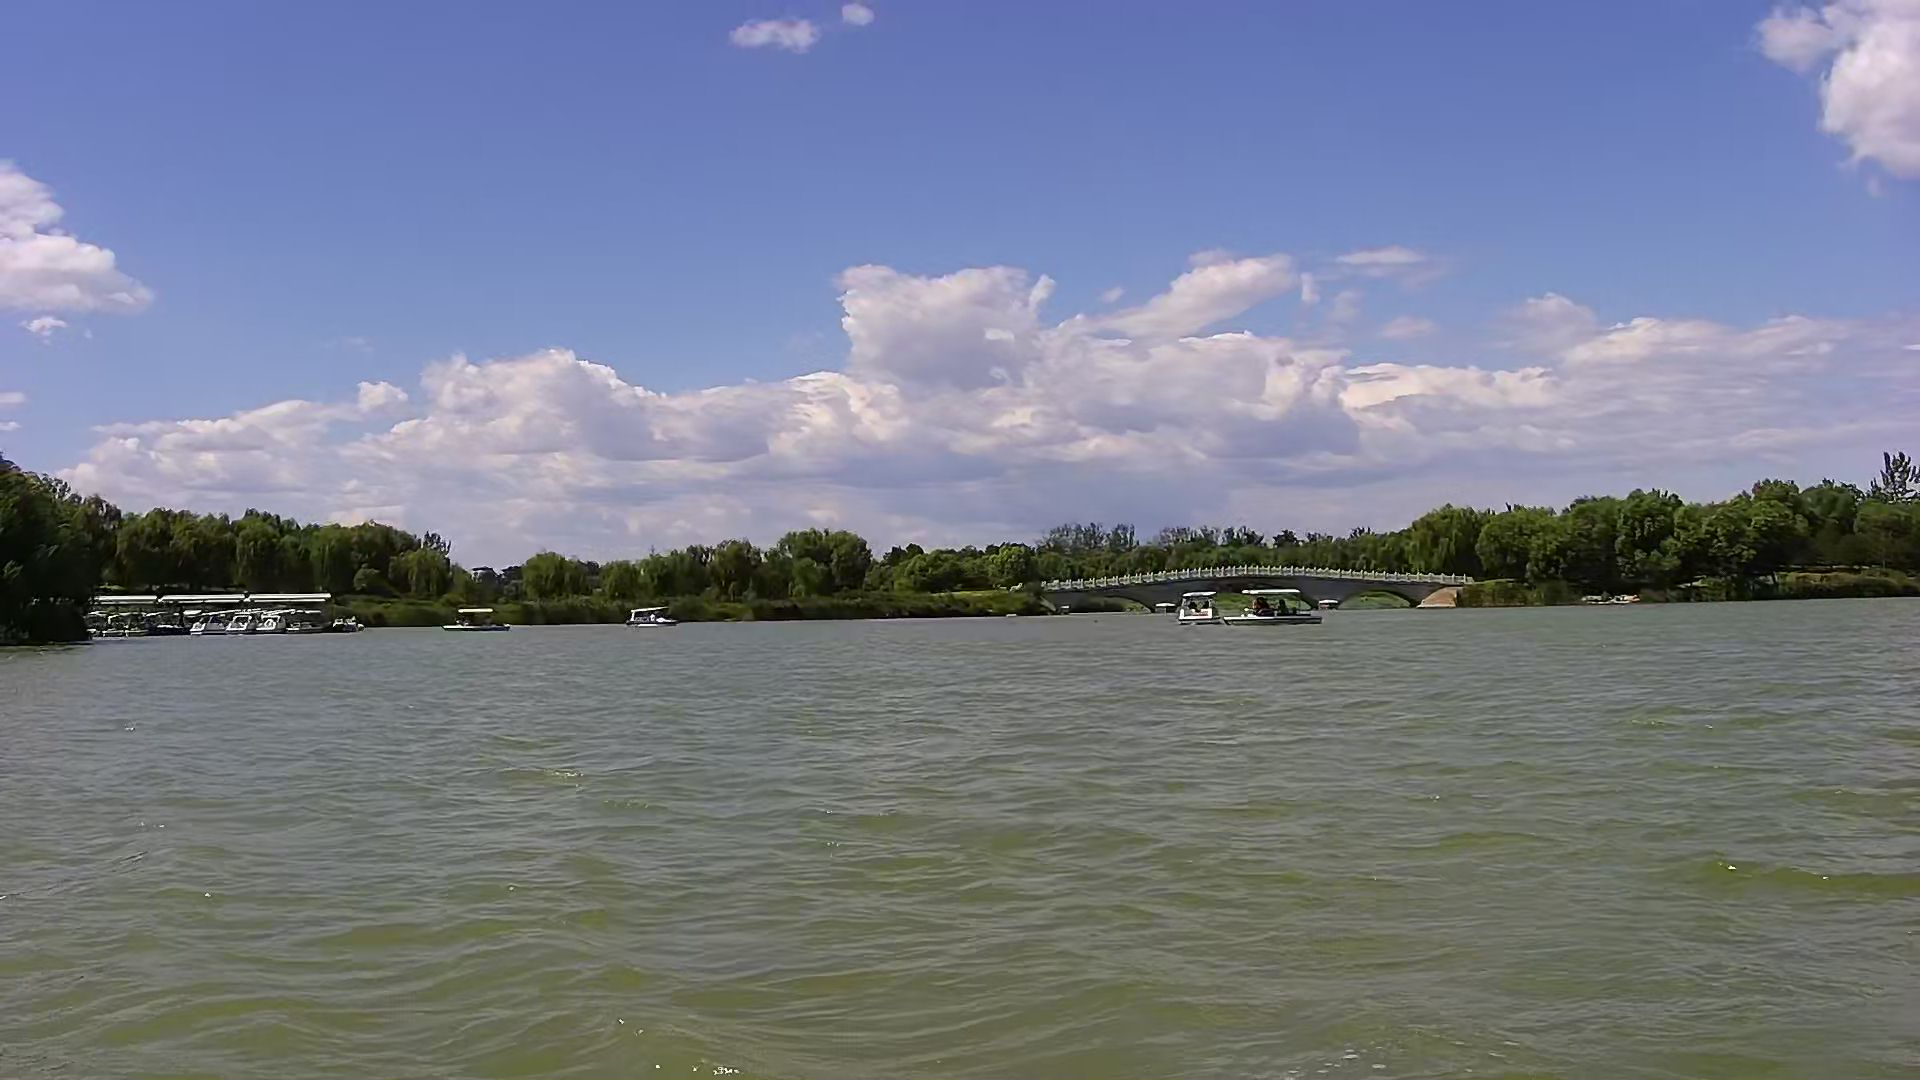boat: (1167, 589, 1233, 634), (444, 605, 520, 636), (258, 612, 331, 642), (628, 603, 687, 636), (185, 608, 237, 636), (227, 603, 262, 638)
bridge: (1025, 564, 1481, 612)
